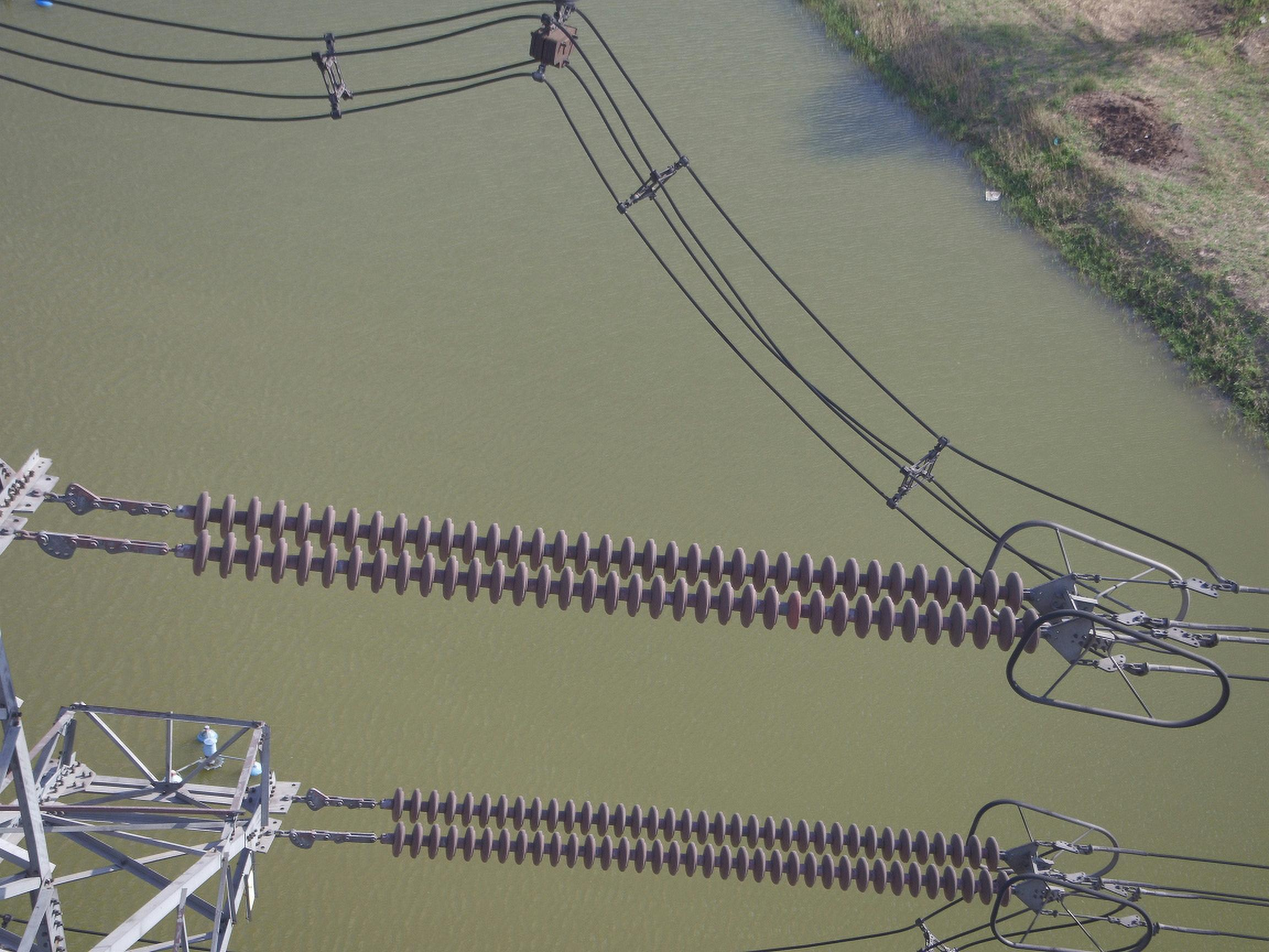insulator: (186, 488, 1044, 656), (387, 783, 1013, 910)
